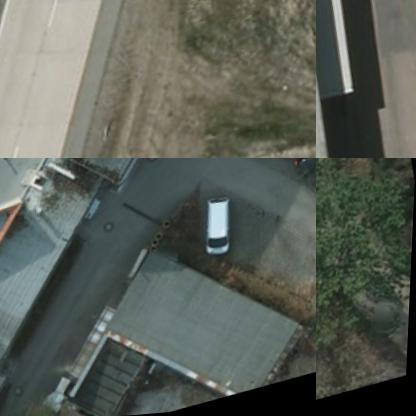car: (197, 200, 240, 258), (290, 158, 315, 186)
